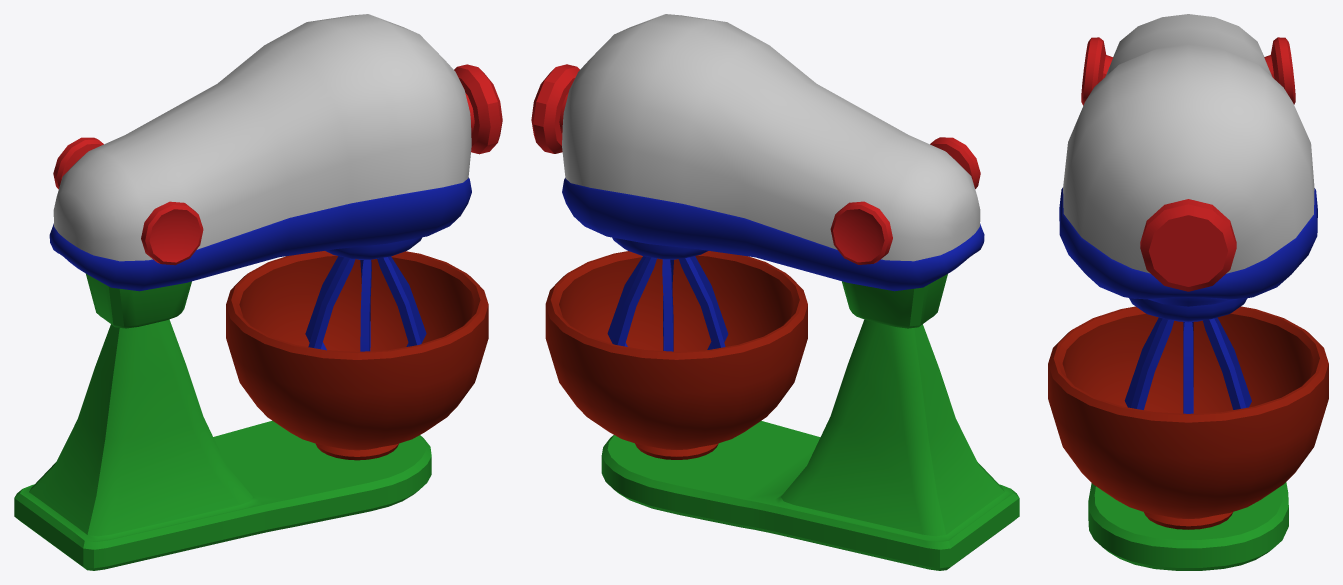
File: Mixcer.FBX
3 renders of one model, left to right at view 1: azimuth 30°, elevation 25°; view 2: azimuth 150°, elevation 25°; view 3: azimuth 270°, elevation 25°, orthographic. The views are drawn at different scales.
Visible parts, largest first — view 1: Mixcer; view 2: Mixcer; view 3: Mixcer.
Boxes of the visible parts, x1,y1,x2,y2 form: Mixcer: [14, 14, 502, 570]; Mixcer: [531, 14, 1019, 570]; Mixcer: [1048, 14, 1328, 570].
Bounding box in the file's own units: 1002 × 524 × 980.
